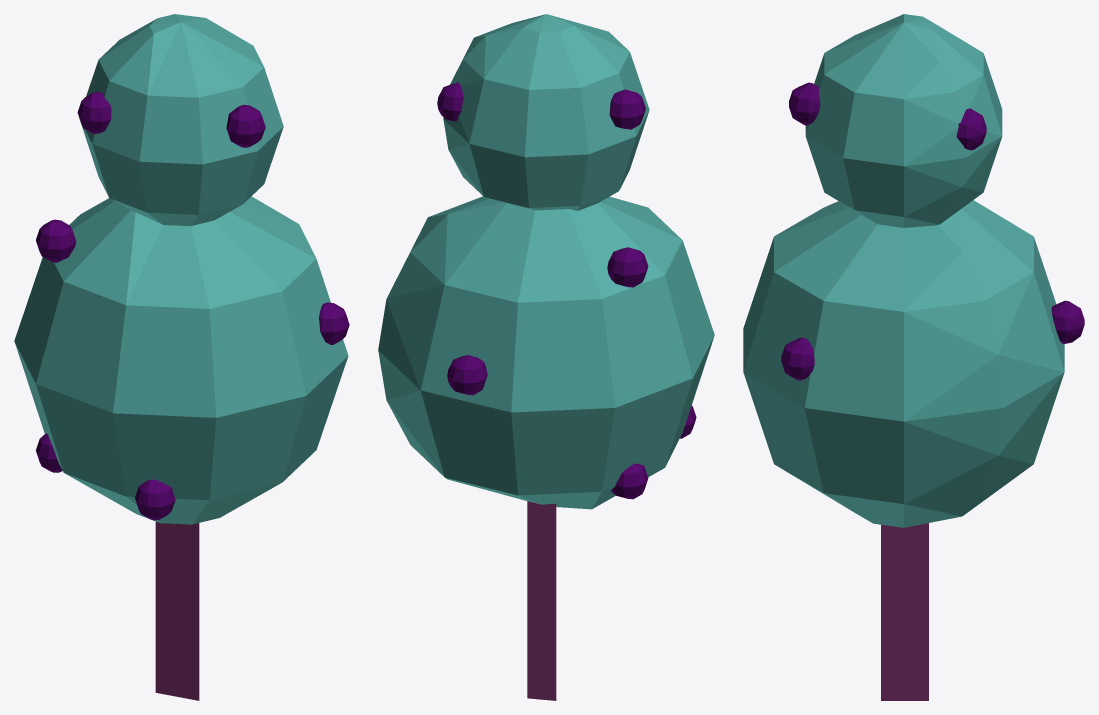
The model's file is snowman_tree.fbx.
The picture shows the model from 3 angles, left to right: view 1: azimuth 30°, elevation 25°; view 2: azimuth 150°, elevation 25°; view 3: azimuth 270°, elevation 25°; orthographic projection.
Parts seen in each view (by area): view 1: pSphere33; view 2: pSphere33; view 3: pSphere33.
Boxes of the visible parts, box(x1,y1,x2,y2) form: pSphere33: box(14, 14, 349, 700); pSphere33: box(378, 14, 714, 700); pSphere33: box(743, 14, 1084, 700).
Size of the model in its own units: 13.34 by 29.43 by 13.48.
